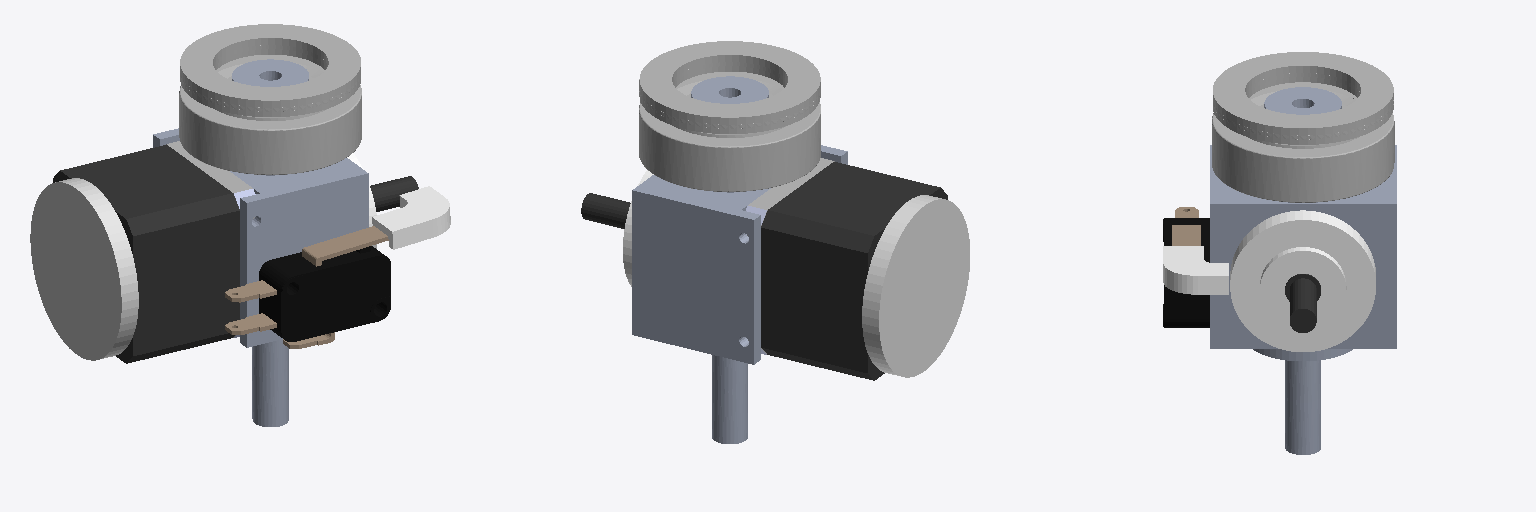
3 views of the same model, side by side, from view 1: azimuth 30°, elevation 25°; view 2: azimuth 150°, elevation 25°; view 3: azimuth 270°, elevation 25° (orthographic).
Parts seen in each view (by area): view 1: Body1:2, Body1:3, Body1:1, Body3:1, Body1:5, Body1:6, Body1, Body1:7, Body2, Body2:2, Body1:4, Body22 (+1 smaller); view 2: Body1:2, Body3:1, Body1:3, Body1:5, Body1:6, Body1:7, Body2, Body2:2, Body1:4, Body22, Body3; view 3: Body2, Body3:1, Body1:5, Body1:6, Body1:7, Body1:1, Body1, Body2:2, Body1:4, Body22, Body3.
Boxes of the visible parts, <box> form: Body1:2: <box>53,145,239,363</box>; Body1:3: <box>30,178,138,360</box>; Body1:1: <box>225,226,390,348</box>; Body3:1: <box>153,128,368,347</box>; Body1:5: <box>179,55,361,174</box>; Body1:6: <box>180,24,360,113</box>; Body1: <box>372,186,450,249</box>; Body1:7: <box>252,339,288,426</box>; Body2: <box>166,141,418,337</box>; Body2:2: <box>232,59,308,175</box>; Body1:4: <box>180,51,360,116</box>; Body22: <box>180,45,360,111</box>; Body1:2: <box>761,162,947,380</box>; Body3:1: <box>632,145,847,364</box>; Body1:3: <box>862,195,969,377</box>; Body1:5: <box>639,72,820,191</box>; Body1:6: <box>639,41,820,130</box>; Body1:7: <box>712,355,747,443</box>; Body2: <box>581,158,834,354</box>; Body2:2: <box>691,76,768,192</box>; Body1:4: <box>639,68,820,133</box>; Body22: <box>639,62,820,128</box>; Body3: <box>674,80,785,137</box>; Body2: <box>1230,210,1375,351</box>; Body3:1: <box>1210,145,1396,348</box>; Body1:5: <box>1212,82,1394,202</box>; Body1:6: <box>1213,52,1393,141</box>; Body1:7: <box>1253,349,1352,454</box>; Body1:1: <box>1163,207,1209,327</box>; Body1: <box>1163,246,1228,294</box>; Body2:2: <box>1264,87,1341,202</box>; Body1:4: <box>1213,79,1393,144</box>; Body22: <box>1213,73,1393,139</box>; Body3: <box>1248,91,1358,148</box>.
Size of the model in its own units: 8.51 by 8.63 by 5.12.